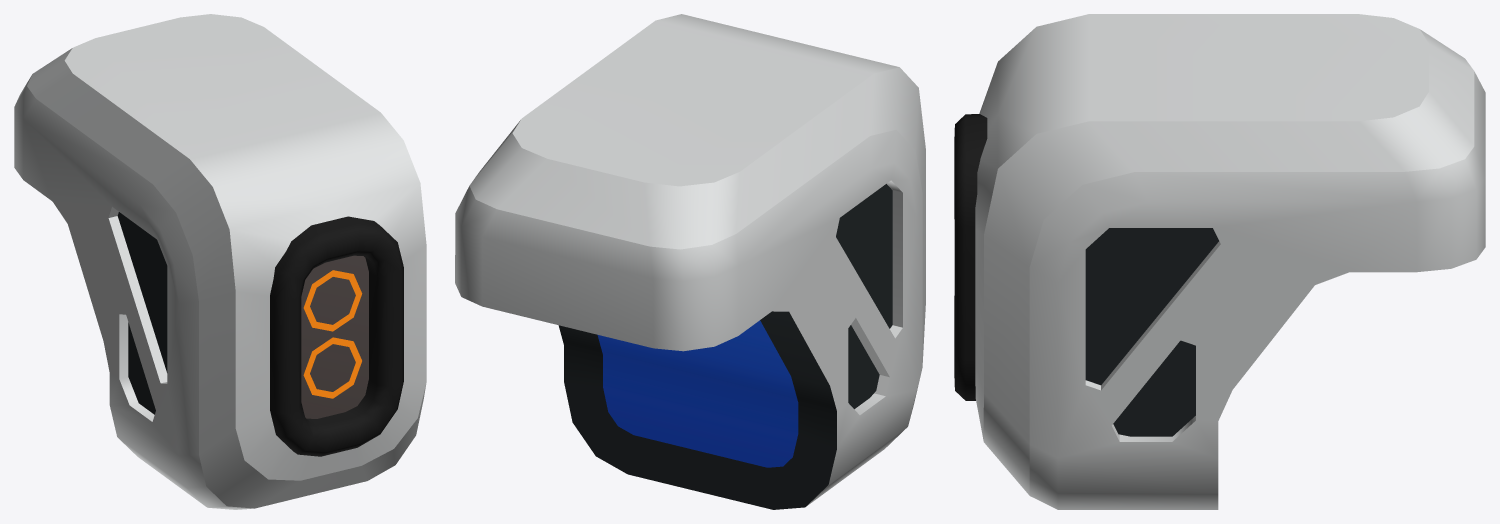
Rendered from Hive_ammo.glb.
3 renders of one model, left to right at view 1: azimuth 30°, elevation 25°; view 2: azimuth 150°, elevation 25°; view 3: azimuth 270°, elevation 25°, orthographic. The views are drawn at different scales.
Visible parts, largest first — view 1: Hive_ammo; view 2: Hive_ammo; view 3: Hive_ammo.
Part boxes in pixels (box(x1,y1,x2,y2)): Hive_ammo: box(14, 14, 426, 509); Hive_ammo: box(455, 14, 925, 509); Hive_ammo: box(954, 14, 1485, 509).
Bounding box in the file's own units: 0.2228 × 0.3104 × 0.3725.
Materials: 3 (2 with a texture image).
